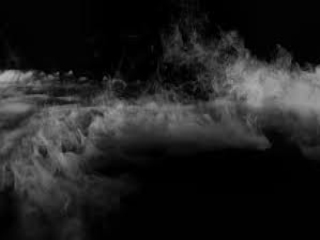smoke: (17, 81, 165, 225), (168, 37, 316, 155)
